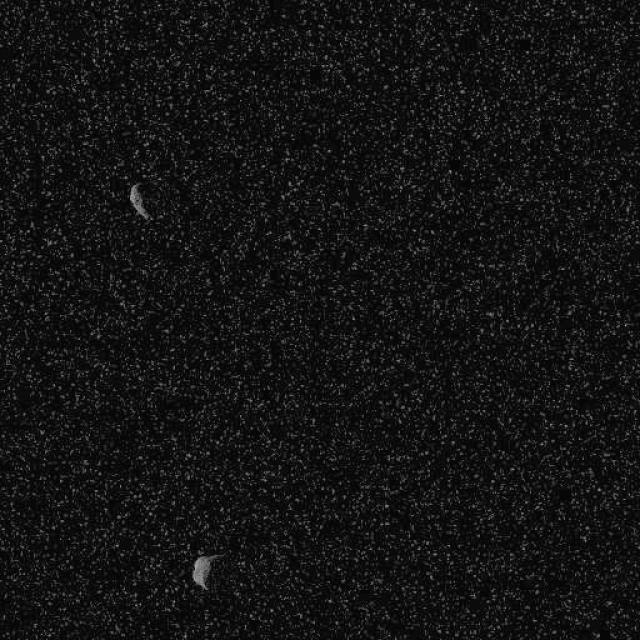D2: (190, 551, 222, 590), (128, 181, 152, 221)
